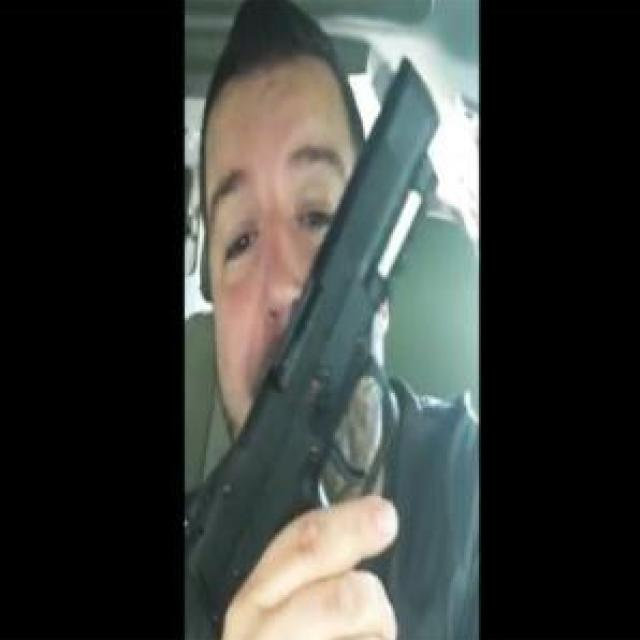pistol: (187, 58, 447, 626)
